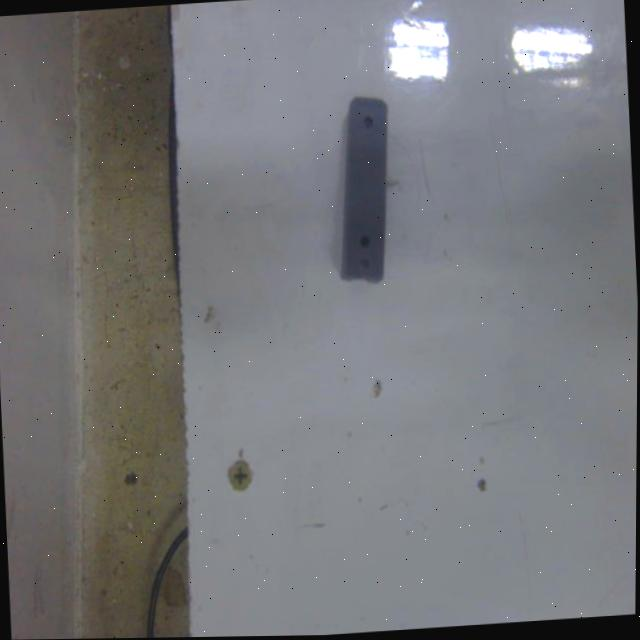grey: (328, 94, 399, 288)
head: (359, 112, 377, 136)
